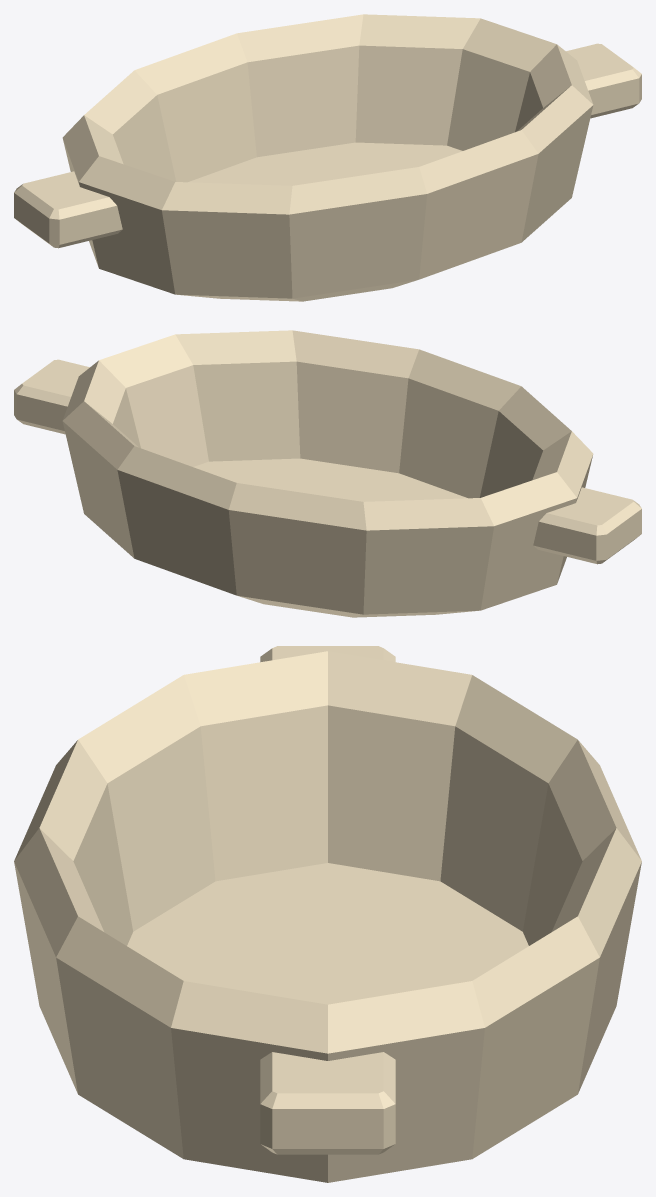
File: crafted-portions-0.glb
3 renders of one model, top to bottom at view 1: azimuth 30°, elevation 25°; view 2: azimuth 150°, elevation 25°; view 3: azimuth 270°, elevation 25°, orthographic. The views are drawn at different scales.
Parts seen in each view (by area): view 1: serving-dish, dish-handle, dish-handle-1; view 2: serving-dish, dish-handle, dish-handle-1; view 3: serving-dish, dish-handle-1, dish-handle.
Boxes of the visible parts, x1=… form: serving-dish: x1=62, y1=14, x2=593, y2=301; dish-handle: x1=14, y1=171, x2=122, y2=248; dish-handle-1: x1=566, y1=43, x2=641, y2=118; serving-dish: x1=62, y1=330, x2=593, y2=617; dish-handle: x1=533, y1=487, x2=641, y2=564; dish-handle-1: x1=14, y1=359, x2=89, y2=434; serving-dish: x1=14, y1=651, x2=641, y2=1182; dish-handle-1: x1=260, y1=1052, x2=395, y2=1154; dish-handle: x1=260, y1=646, x2=395, y2=662.
Bounding box in the file's own units: 0.88 × 0.2 × 0.5106.
